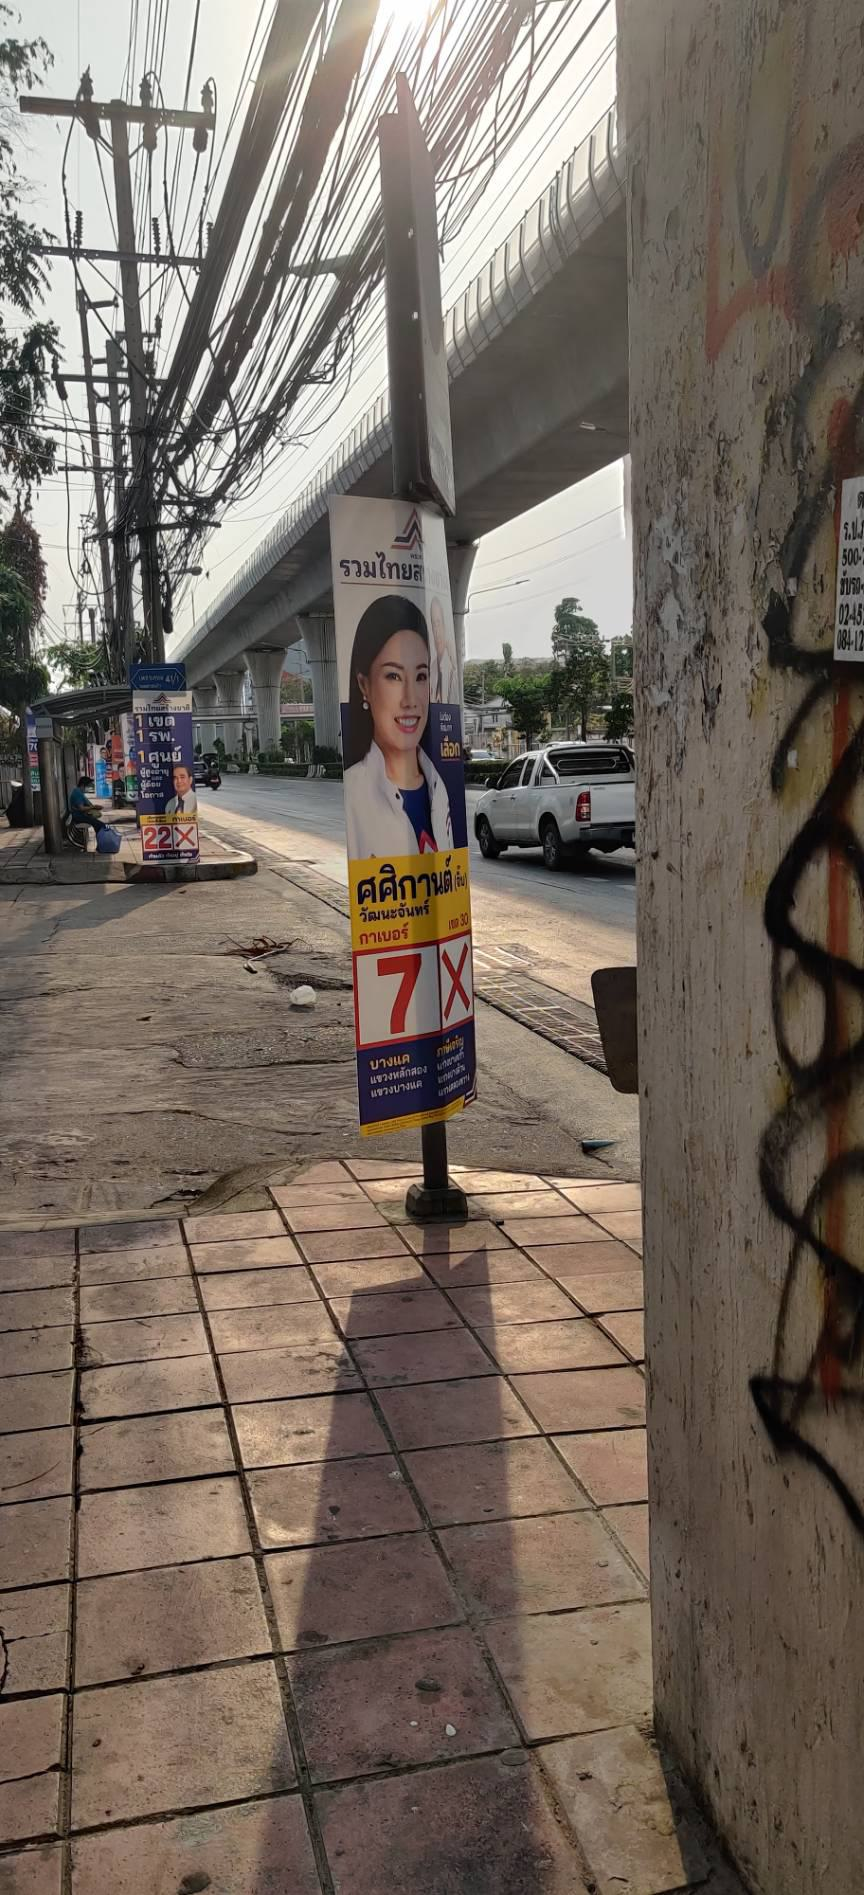Banner: (329, 499, 479, 1129), (128, 686, 207, 873)
